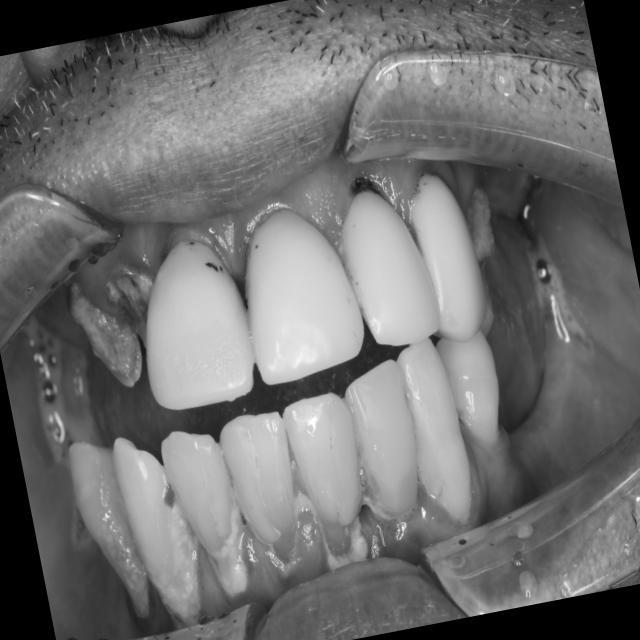tooth: (215, 183, 389, 405), (114, 210, 279, 433), (318, 166, 456, 375), (144, 410, 276, 617), (104, 420, 225, 638), (49, 430, 168, 640), (205, 398, 335, 587), (384, 315, 492, 538), (388, 150, 504, 354), (275, 383, 391, 587), (333, 354, 444, 547), (422, 305, 522, 476), (17, 316, 107, 472), (58, 271, 155, 409), (91, 255, 171, 361), (454, 174, 504, 268)
